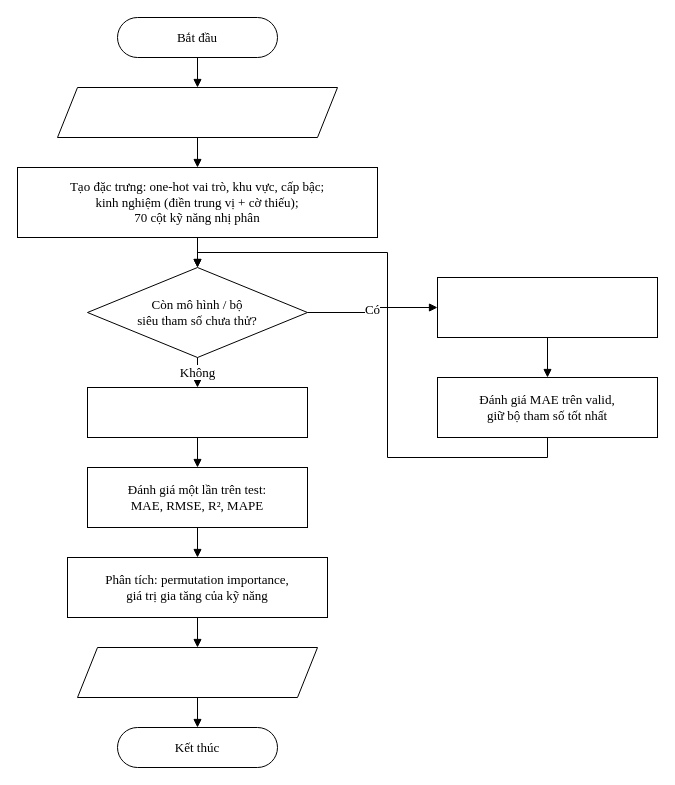
Some shapes in this 675 by 785 pixel diagram are drawn without their labels. The shapes that lost their labels are listed below. From the top down, each one's centre as x and y in pixels, then its label:
(197,112): Đọc salary_dataset_v2.csv tách train / valid / test
(547,307): Huấn luyện trên train với mục tiêu log(lương)
(197,412): Chọn mô hình có MAE valid nhỏ nhất
(197,672): Lưu mô hình .joblib, metrics.json, skill_value.csv
